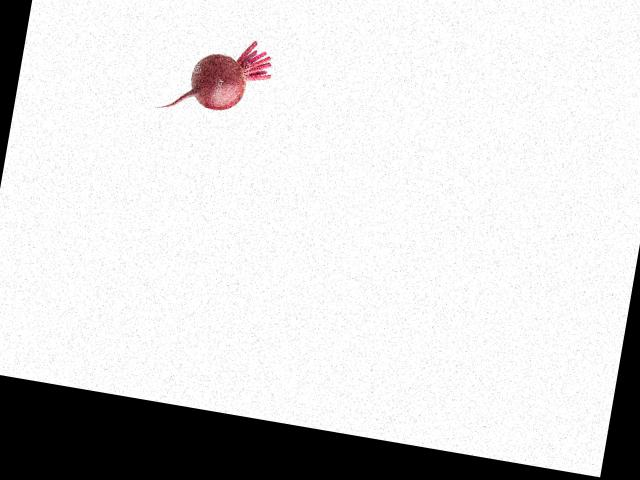beet: (159, 26, 276, 125)
